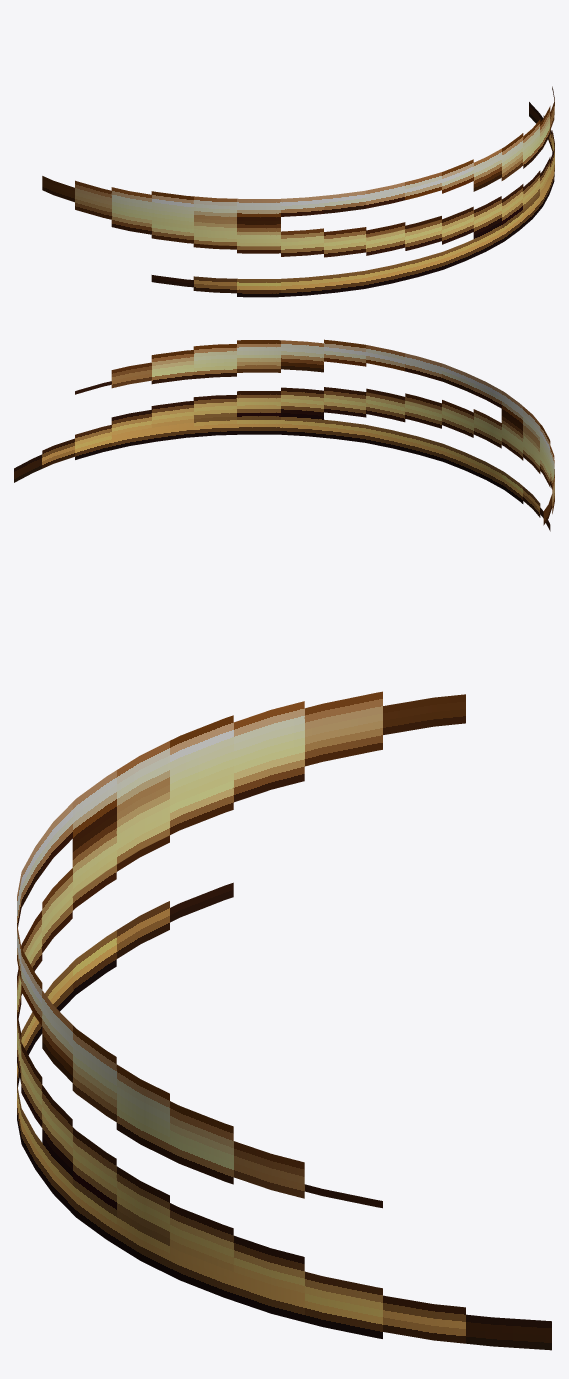
File: banyuan_004.FBX
3 views of the same model, one above another, from view 1: azimuth 30°, elevation 25°; view 2: azimuth 150°, elevation 25°; view 3: azimuth 270°, elevation 25° (orthographic). The views are drawn at different scales.
Parts seen in each view (by area): view 1: banyuan_003; view 2: banyuan_003; view 3: banyuan_003.
Part boxes in pixels (left/top/right/bottom): banyuan_003: left=42, top=86, right=554, bottom=297; banyuan_003: left=14, top=339, right=554, bottom=531; banyuan_003: left=17, top=691, right=551, bottom=1350.
Bounding box in the file's own units: 15.62 × 3.16 × 7.03.
